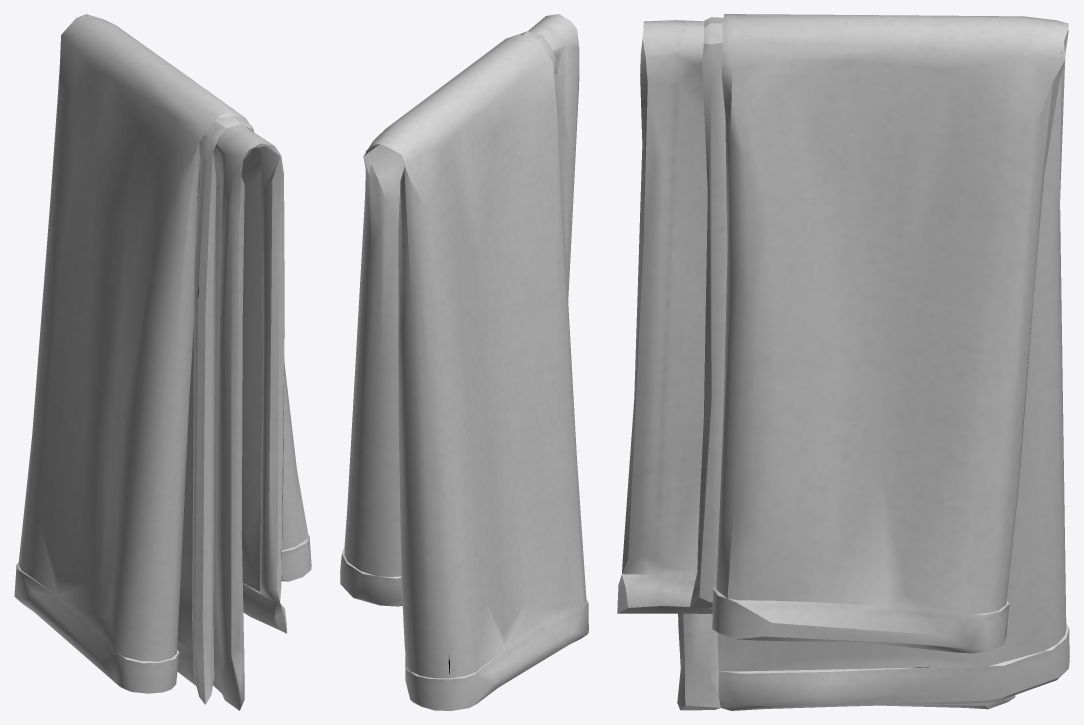
File: cleaning_towel_a01.glb
3 views of the same model, side by side, from view 1: azimuth 30°, elevation 25°; view 2: azimuth 150°, elevation 25°; view 3: azimuth 270°, elevation 25° (orthographic). The views are drawn at different scales.
Visible parts, largest first — view 1: cleaning_towel_a01_lod1; view 2: cleaning_towel_a01_lod1; view 3: cleaning_towel_a01_lod1.
Boxes of the visible parts, bbox=[...] form: cleaning_towel_a01_lod1: bbox=[14, 14, 311, 710]; cleaning_towel_a01_lod1: bbox=[340, 14, 588, 710]; cleaning_towel_a01_lod1: bbox=[617, 14, 1069, 710].
Bounding box in the file's own units: 0.0765 × 0.2389 × 0.1402.
1 material, 1 textured.
